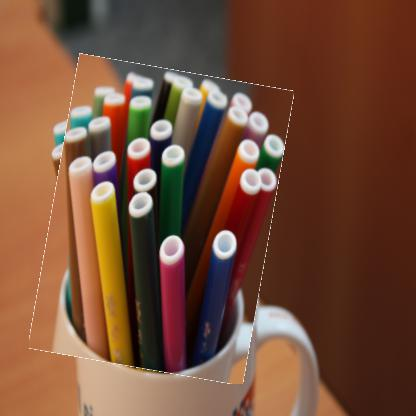Pen: (40, 62, 282, 377)
